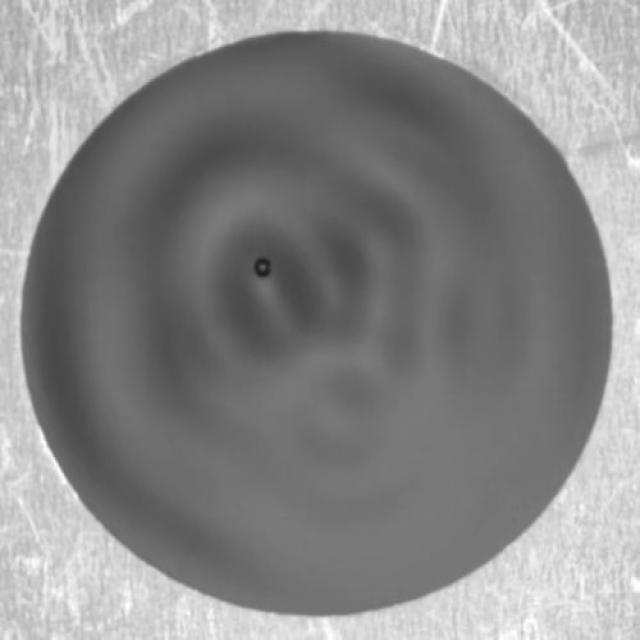droplet: (253, 256, 273, 280)
